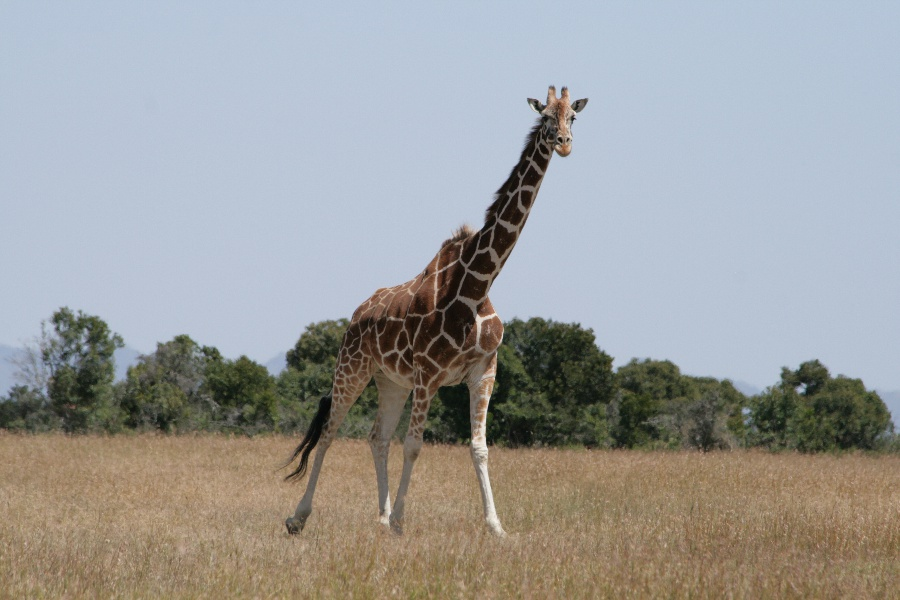giraffe: (276, 73, 600, 544)
